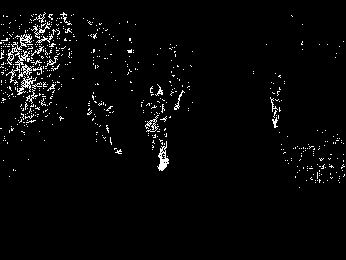person: (87, 84, 123, 156), (141, 84, 170, 170), (269, 74, 284, 128)
